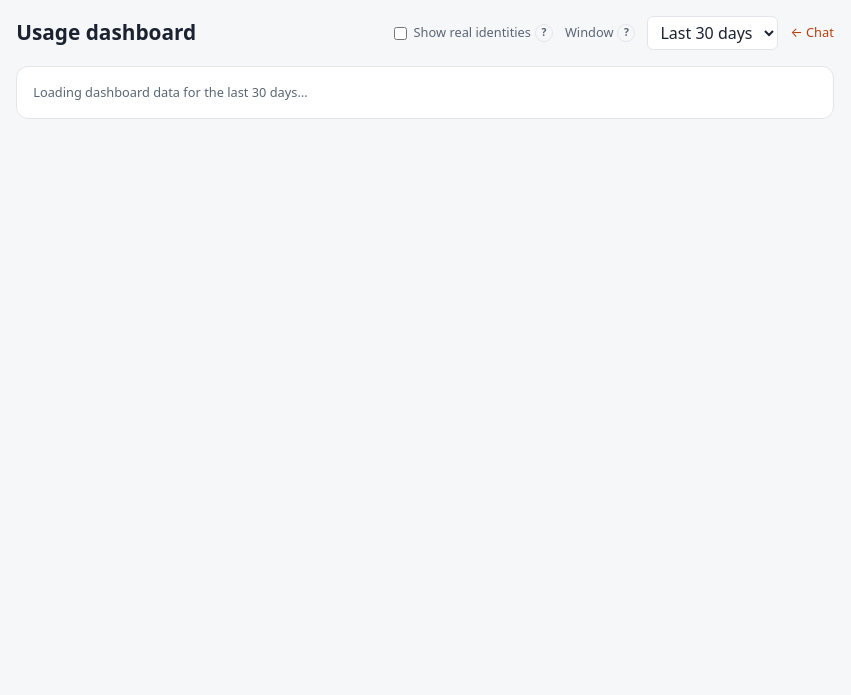
Test: AdminDashboard new analytics panels › does not let a slow older window overwrite the latest request
Select "Last 7 days" in the dropdown labelled "Window". click: [713, 33]
box: [648,16,778,50]
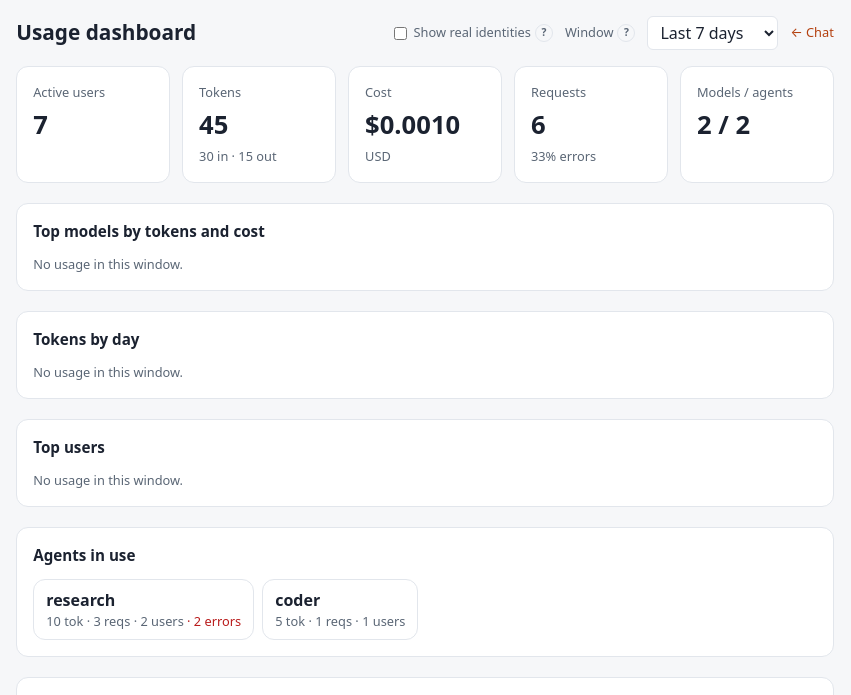
Check: the text "7" is shown, box [33,107,48,142]
